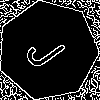J: (23, 25, 76, 73)
